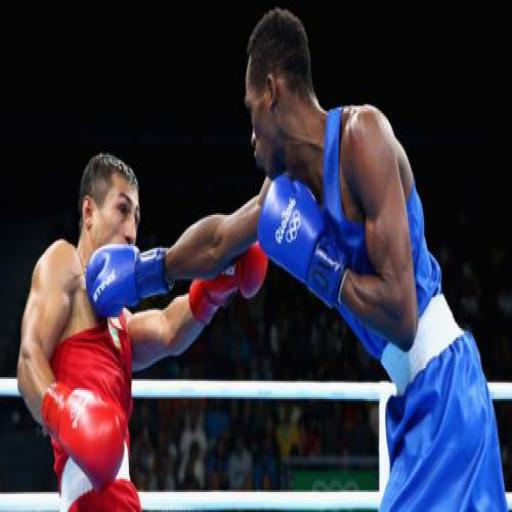boxing: (83, 6, 508, 508), (27, 143, 218, 512)
